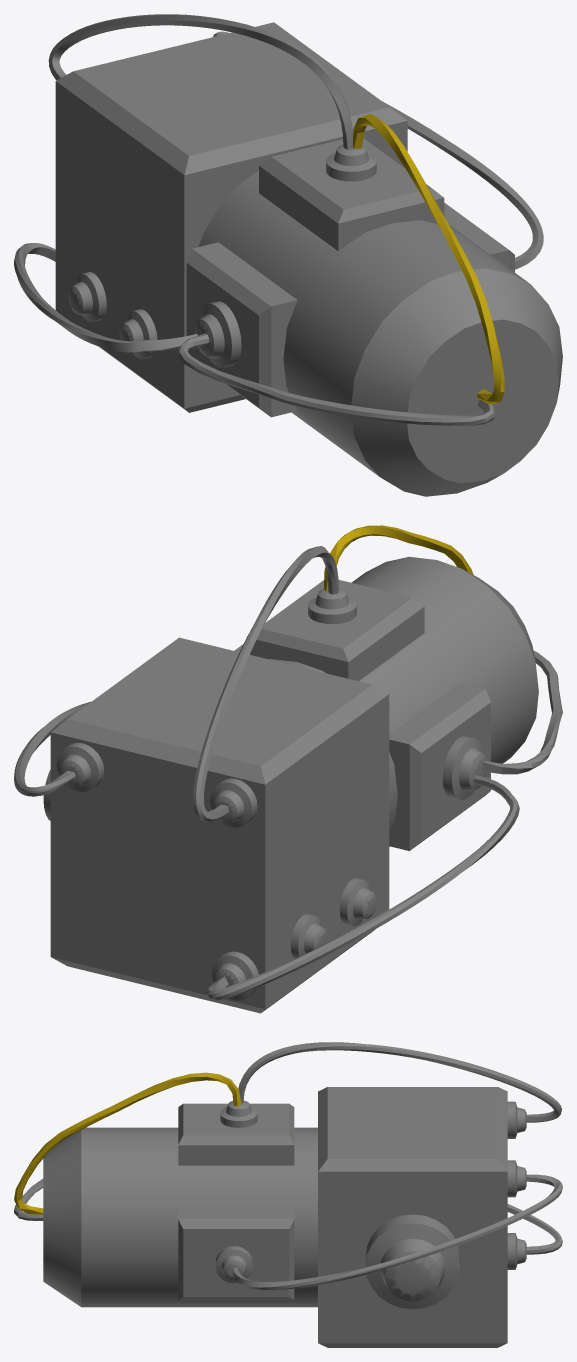
Rendered from SM_MachineMotor.FBX.
The picture shows the model from 3 angles, top to bottom: view 1: azimuth 30°, elevation 25°; view 2: azimuth 150°, elevation 25°; view 3: azimuth 270°, elevation 25°; orthographic projection. The views are drawn at different scales.
Visible parts, largest first — view 1: SM_MachineMotor_LOD0; view 2: SM_MachineMotor_LOD0; view 3: SM_MachineMotor_LOD0.
Boxes of the visible parts, x1,y1,x2,y2 form: SM_MachineMotor_LOD0: [14, 14, 562, 496]; SM_MachineMotor_LOD0: [14, 525, 562, 1013]; SM_MachineMotor_LOD0: [14, 1042, 562, 1347].
Size of what is drawn, in the model's own units: 192 by 150 by 283.
